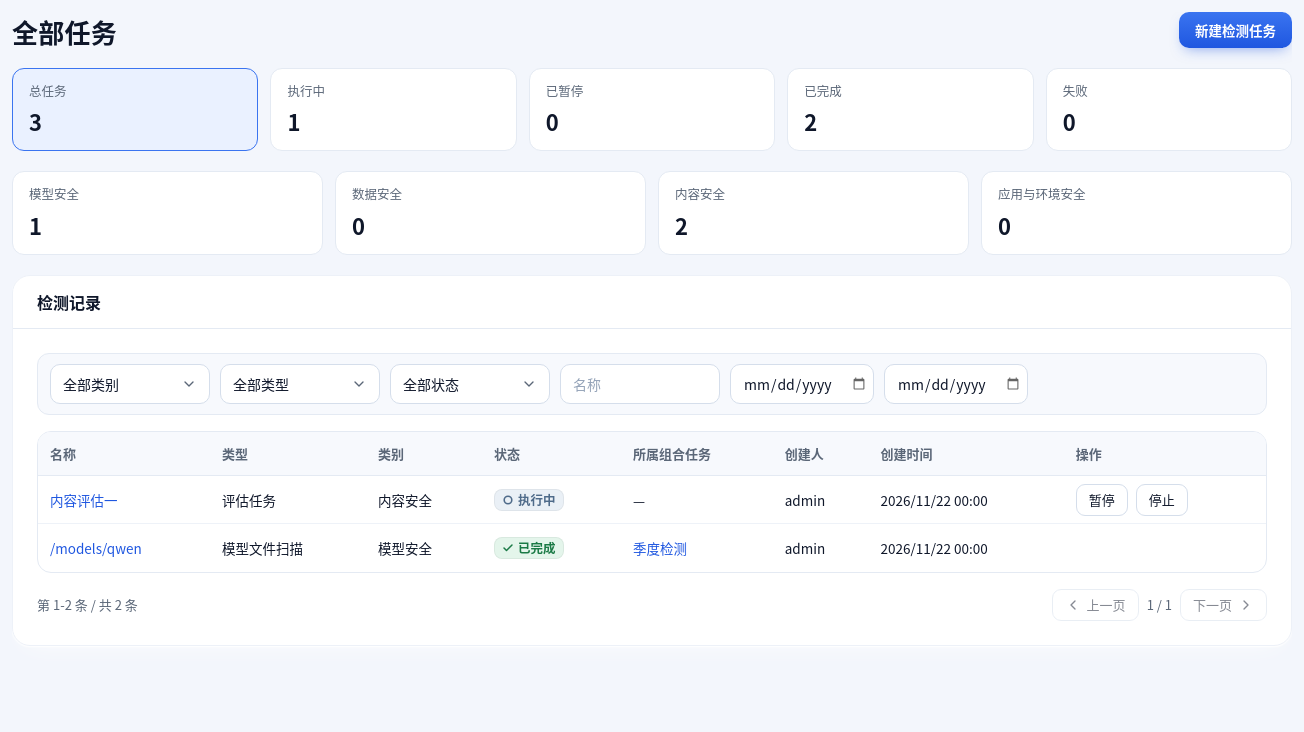
DetectTasksPage 审查修复 › 点某个类别后其余类别统计不变；状态数取该类别的
The image size is (1304, 732).
Check: the button "模型安全 1" is shown, box x1=12 y1=172 x2=323 y2=255
Click the button "内容安全 2": (700,194) x1=658 y1=172 x2=969 y2=255
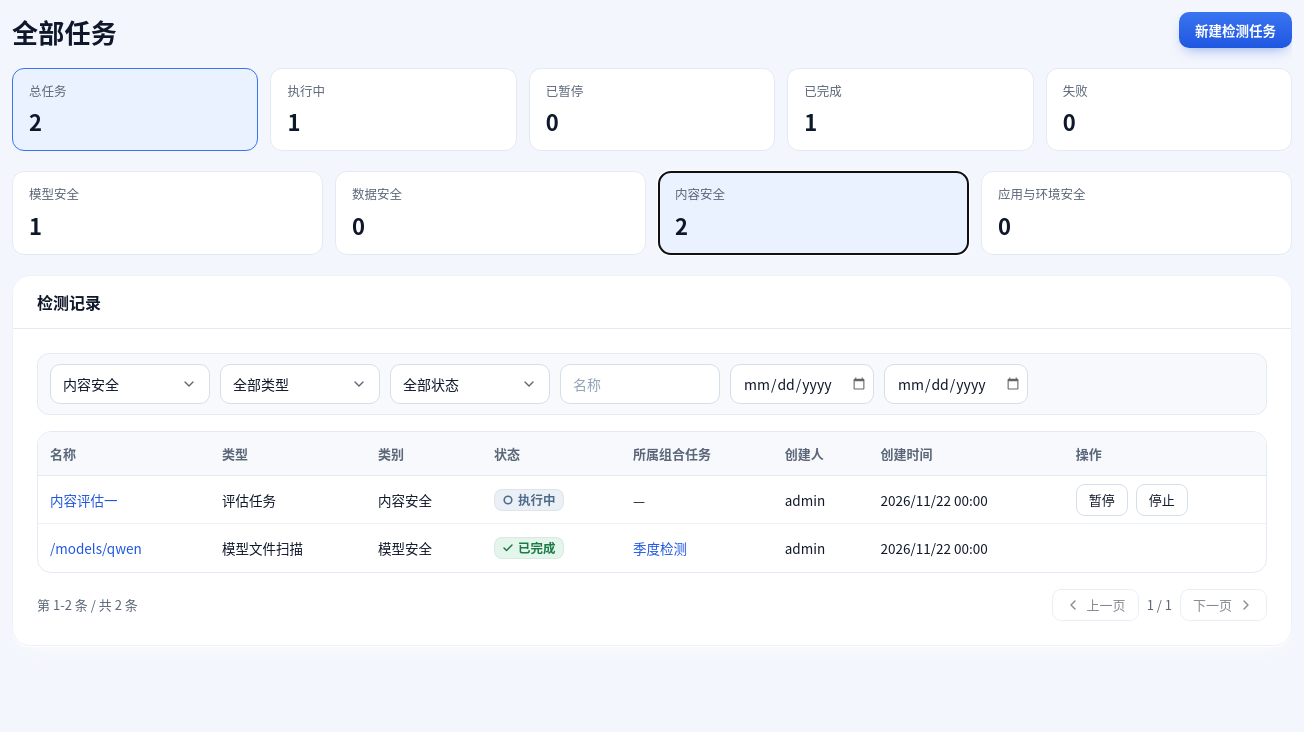
Check: the button "模型安全 1" is shown, box x1=12 y1=172 x2=323 y2=255
Check: the button "总任务 2" is shown, box x1=12 y1=68 x2=258 y2=152
